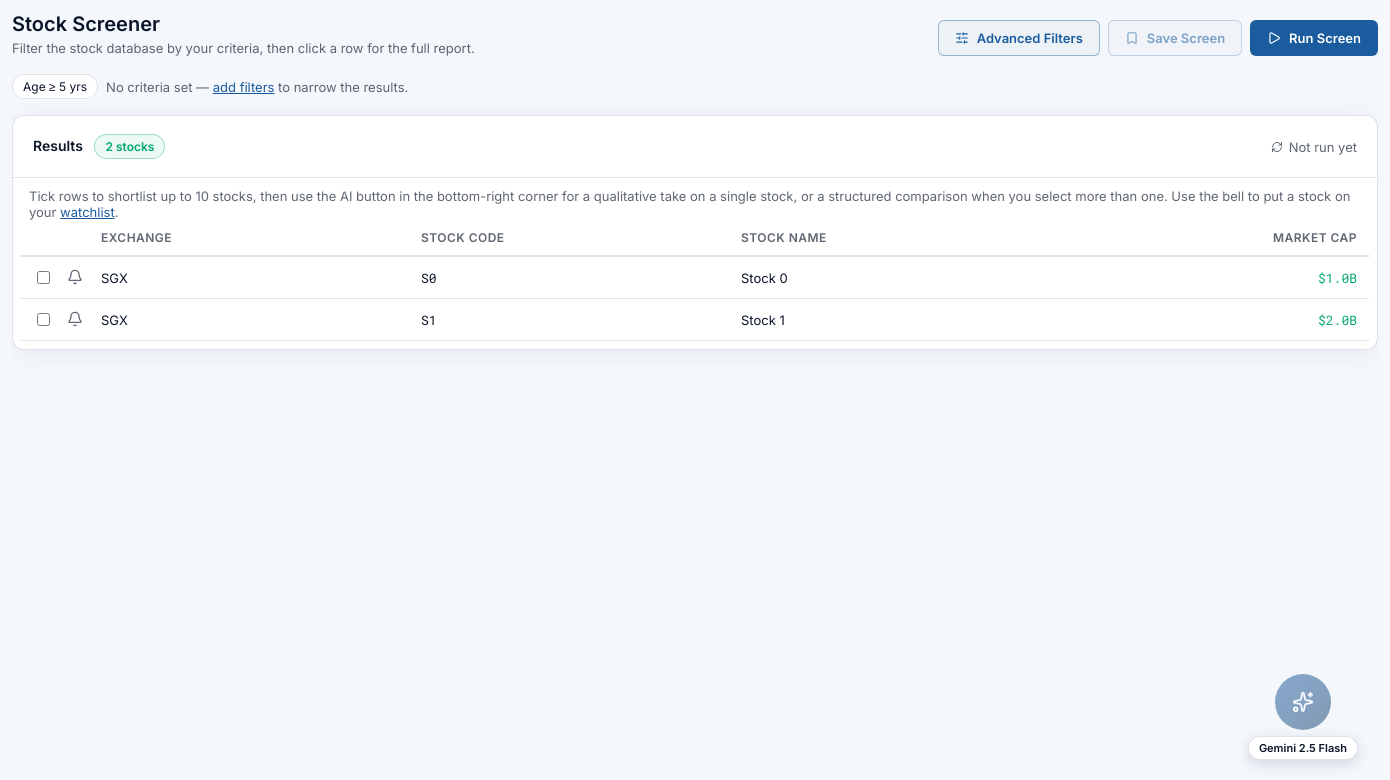
Screener - Analyze with AI › shortlists a row via its checkbox and enables the button with a count
The image size is (1390, 780).
Click the checkbox named "Select Stock 0" at (44, 278), box left=37, top=271, right=50, bottom=284
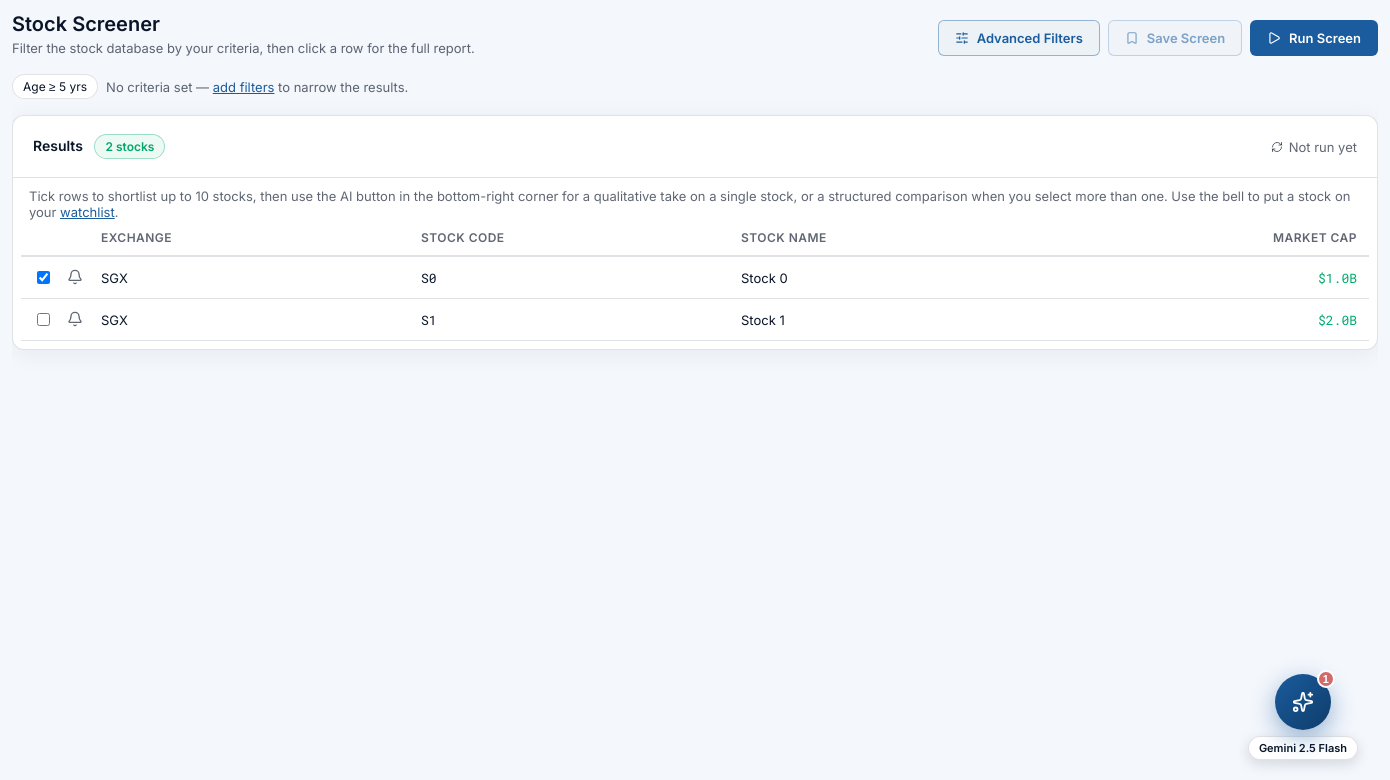
Expected: the button named "analyze 1 selected stock with ai" is enabled, left=1275, top=674, right=1331, bottom=730
Expected: the button named "analyze 1 selected stock with ai" reads "1", left=1275, top=674, right=1331, bottom=730
